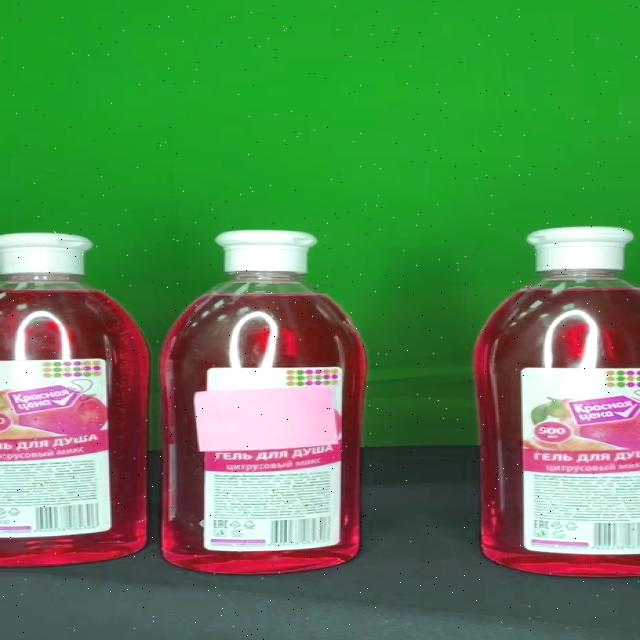Bottle: (158, 229, 366, 575), (473, 227, 640, 578)
Cap: (528, 227, 634, 270), (215, 230, 317, 274)
